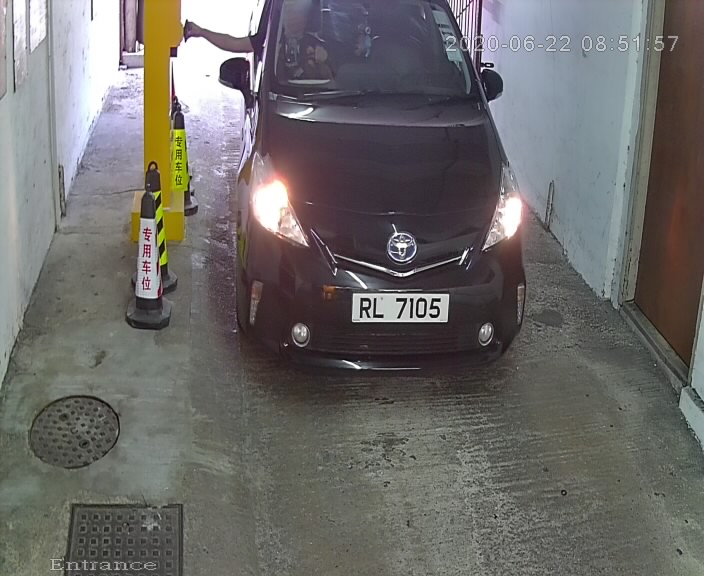privatecar: (203, 1, 551, 419)
